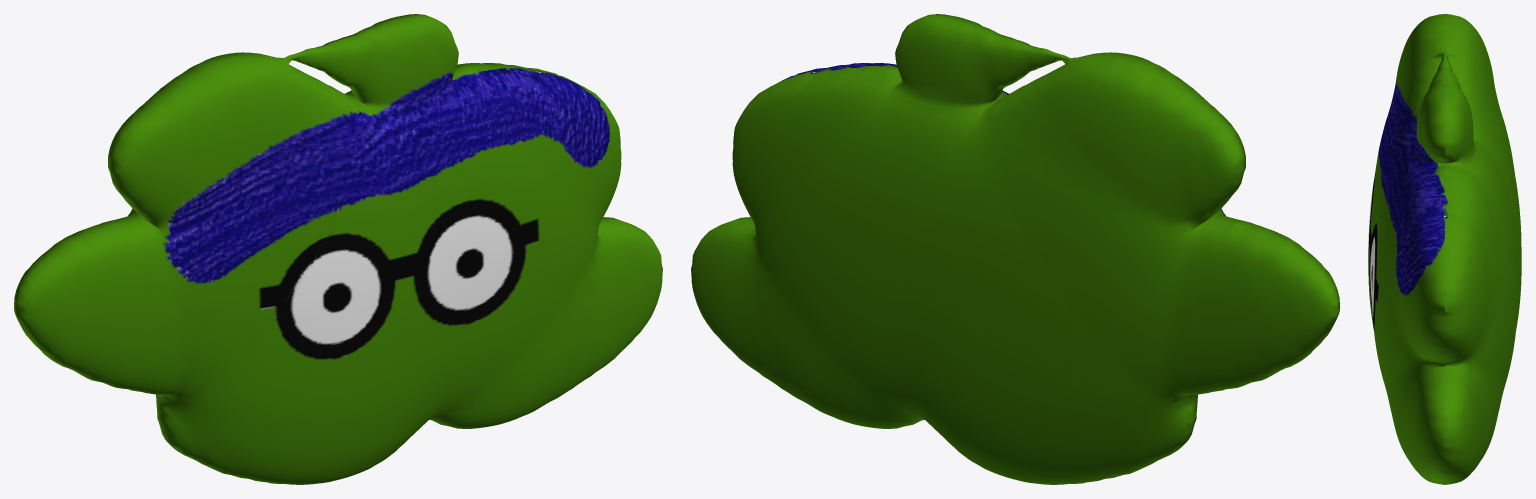
Rendered from Nuage2.fbx.
3 renders of one model, left to right at view 1: azimuth 30°, elevation 25°; view 2: azimuth 150°, elevation 25°; view 3: azimuth 270°, elevation 25°, orthographic. The views are drawn at different scales.
Visible parts, largest first — view 1: root; view 2: root; view 3: root.
Boxes of the visible parts, x1,y1,x2,y2 form: root: (14,14,662,484); root: (691,14,1339,484); root: (1368,14,1521,484).
Bounding box in the file's own units: 0.355 × 0.2315 × 0.0905.
Materials: 1 (1 with a texture image).
